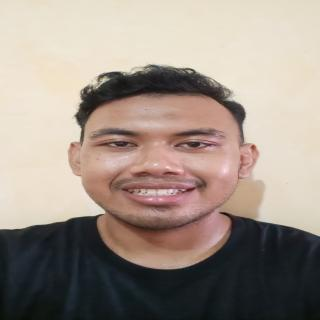Senang: (70, 89, 250, 230)
